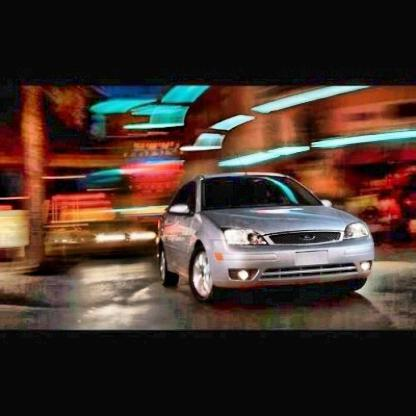Ford Focus Sedan 2007: (157, 173, 376, 303)
